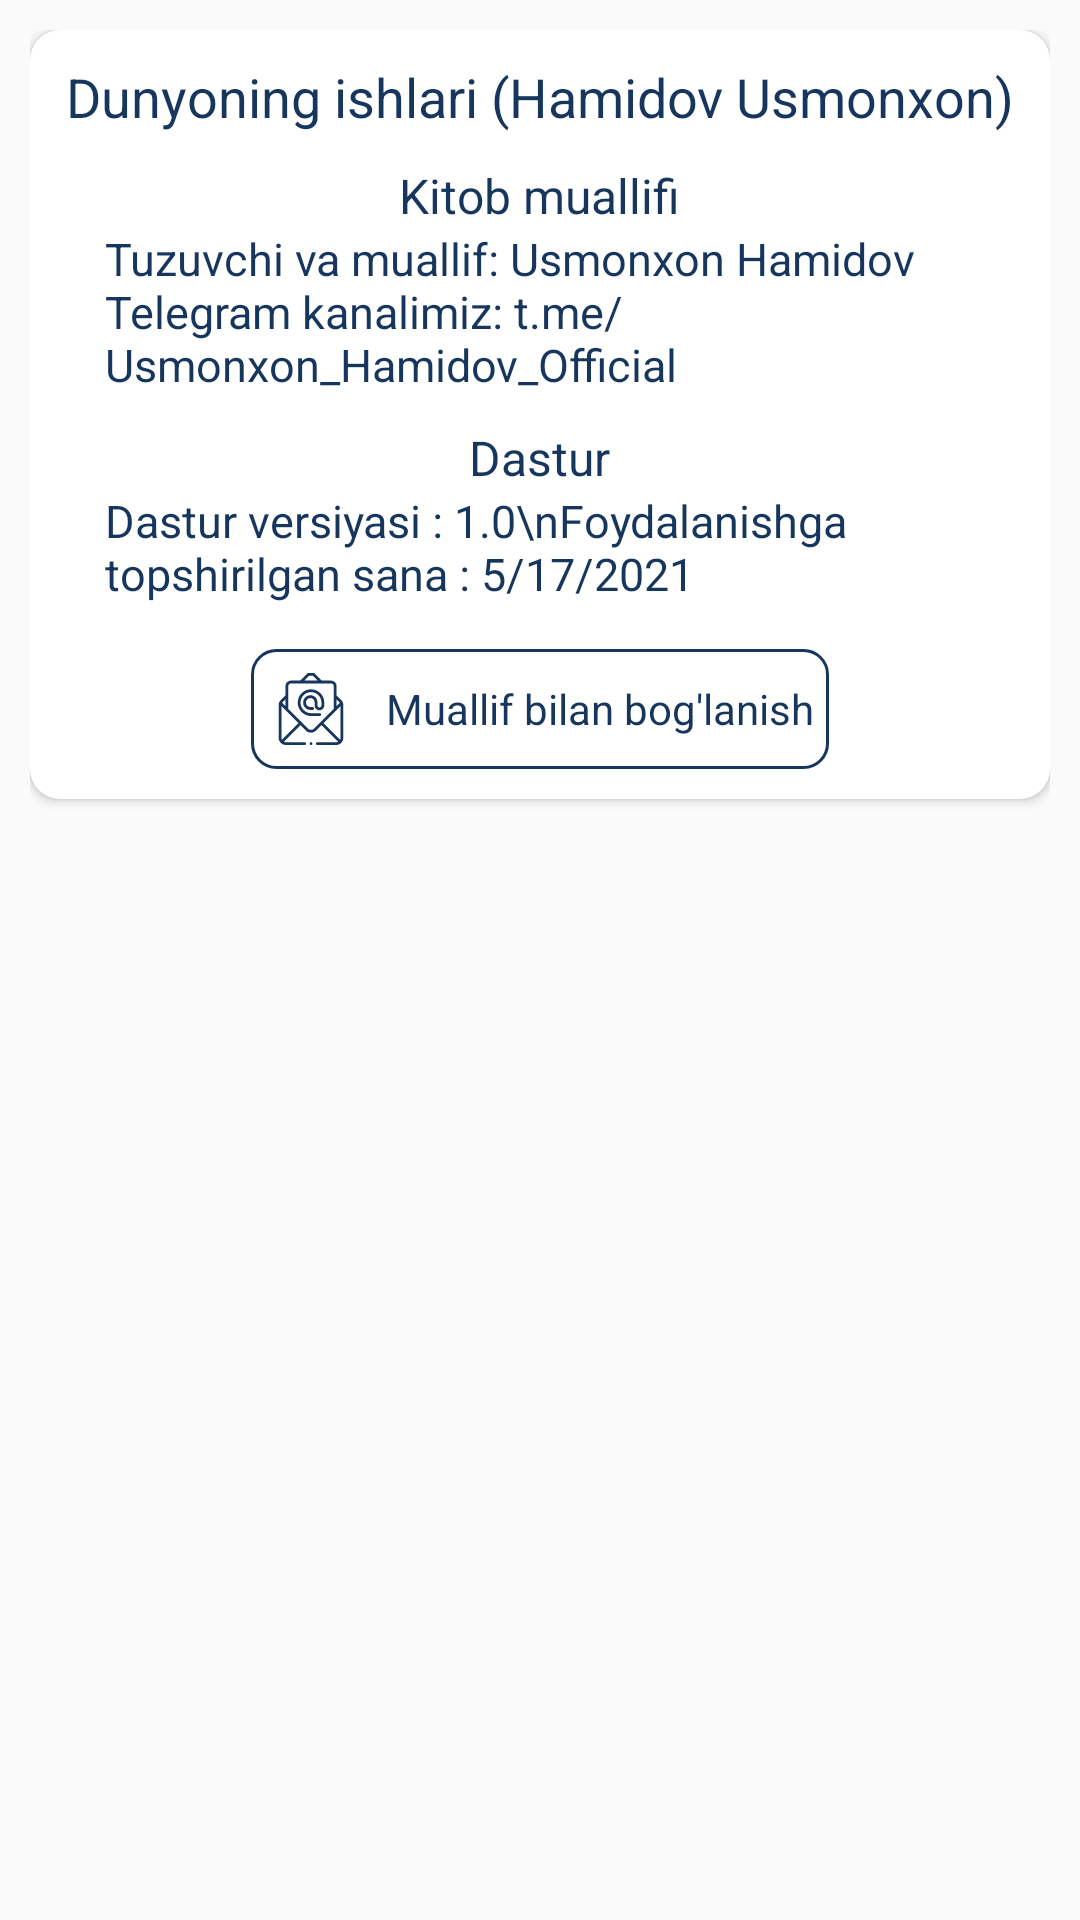

Icon click points for this 1080px×1920px phone screenshot, format point (x, y):
contact: point (311, 709)
